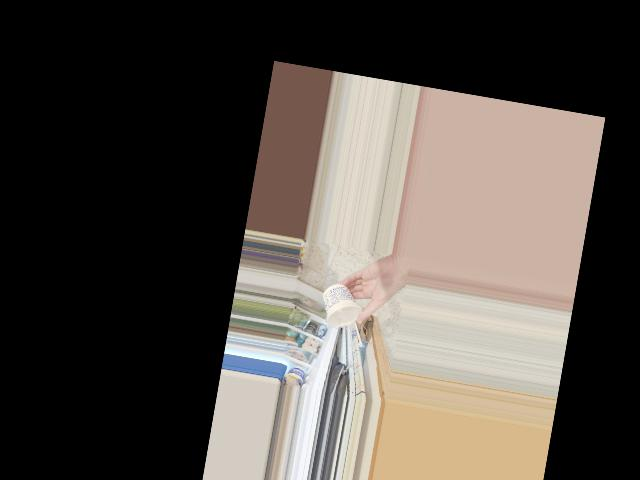cotage: (319, 285, 362, 333)
